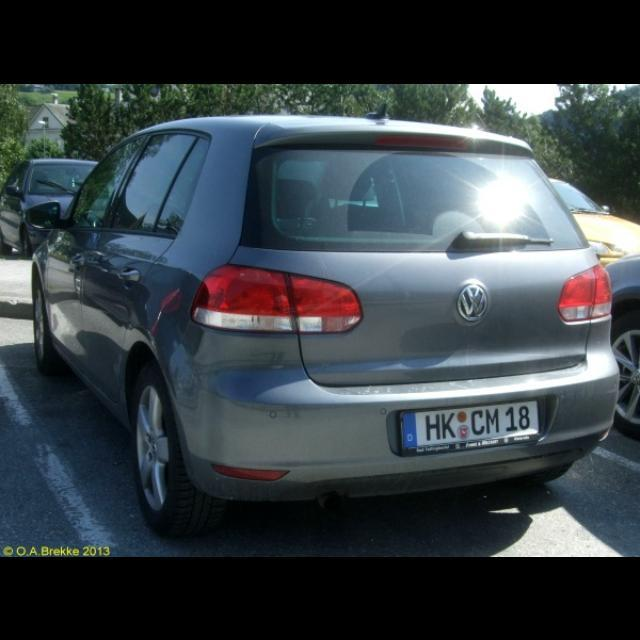license-plates: (403, 404, 541, 454)
